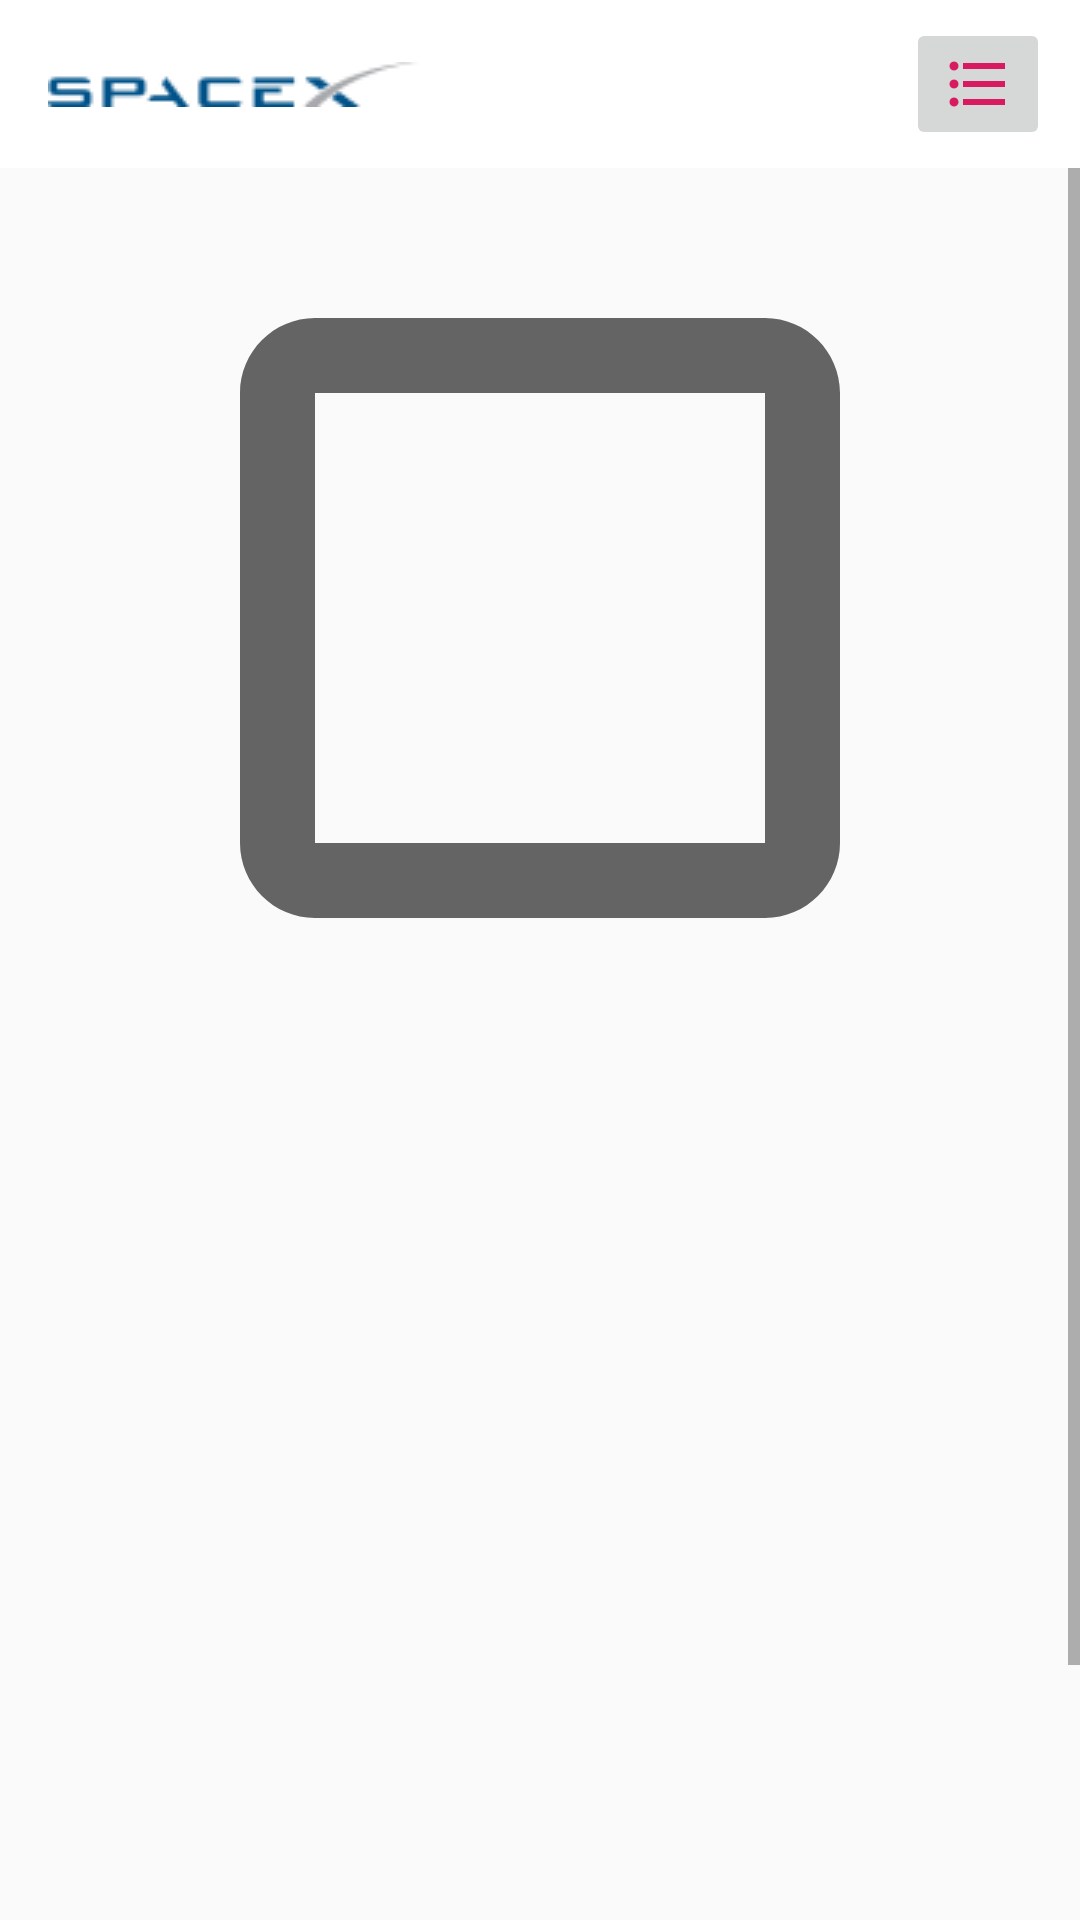

Icons on this 1080 × 1920 Android screen, each with the point to tap as point (x, y):
list: point (978, 84)
